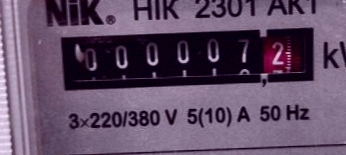0: (143, 41, 161, 68), (113, 44, 130, 72), (82, 46, 99, 73), (205, 37, 221, 65), (175, 38, 190, 66)
2: (270, 39, 286, 69)
7: (235, 37, 251, 66)
screen: (52, 20, 327, 97)
